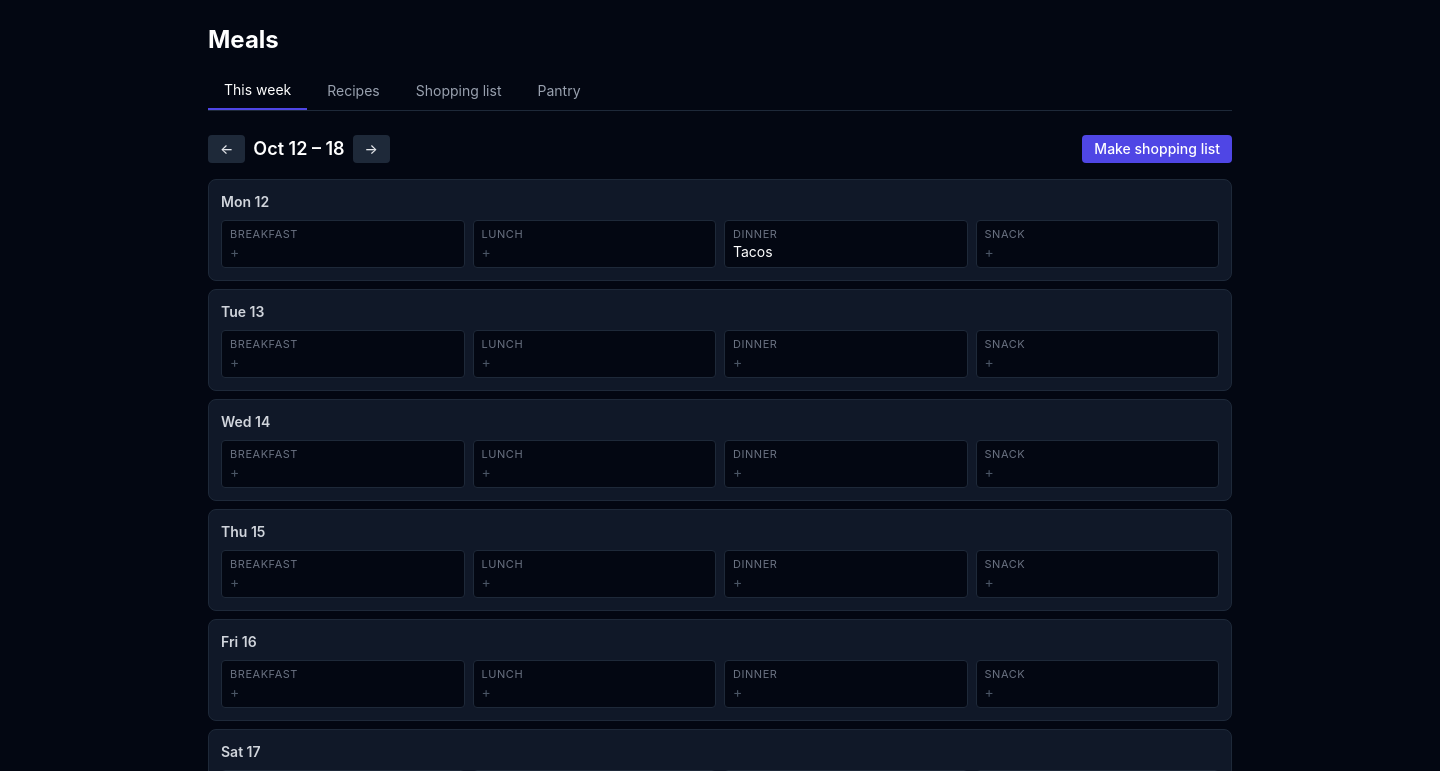
Test: MealsPage › This week › moves between weeks and makes the shopping list
Click the button "Make shopping list": (1157, 149) [1082,135,1232,163]
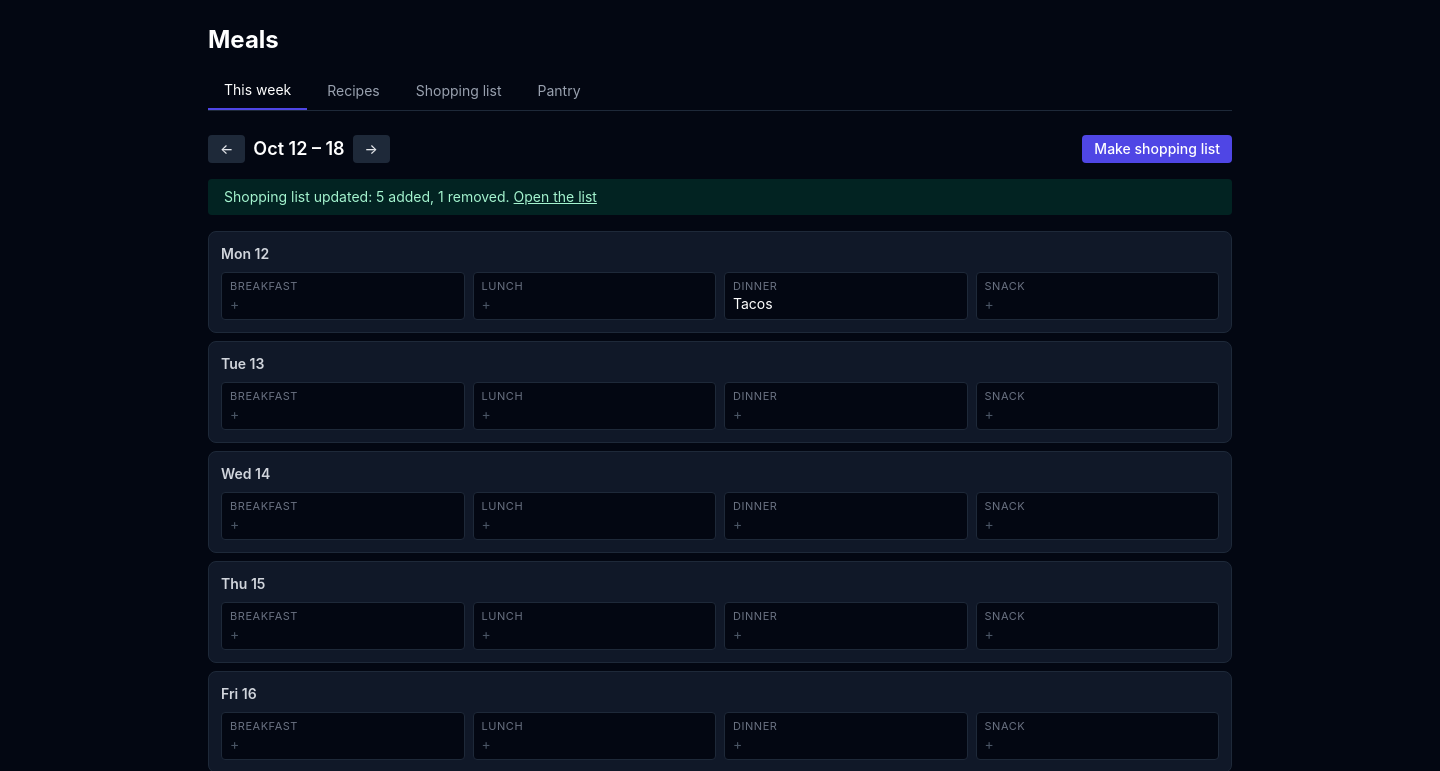
Expected: the text "Shopping list updated: 5 added, 1 removed. Open the list" is shown, [208,179,1232,215]
Click the button named "Next week": (371, 149) [353,135,390,163]
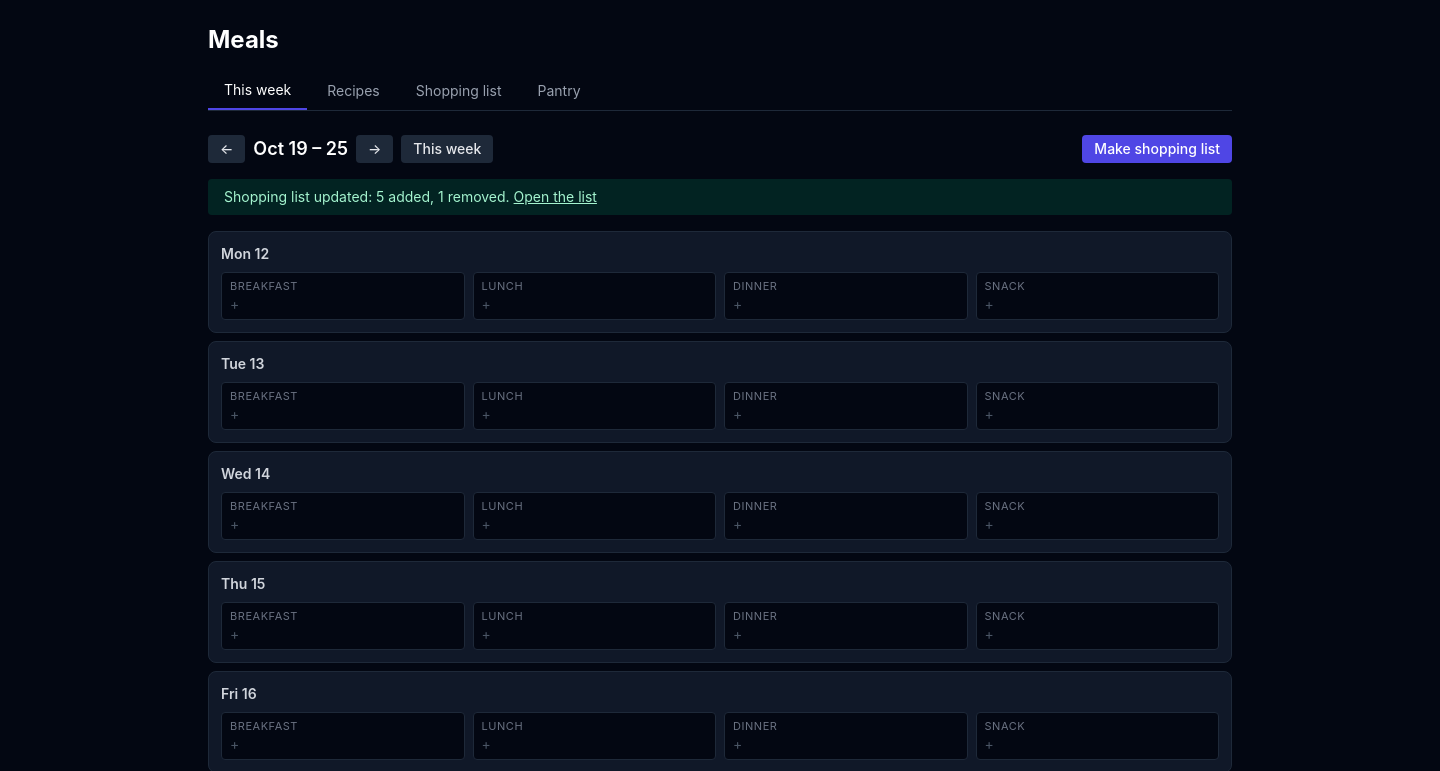
Expected: the heading "Oct 19 – 25" is shown, [253,135,348,163]
Click the button "This week": (447, 149) [401,135,493,163]
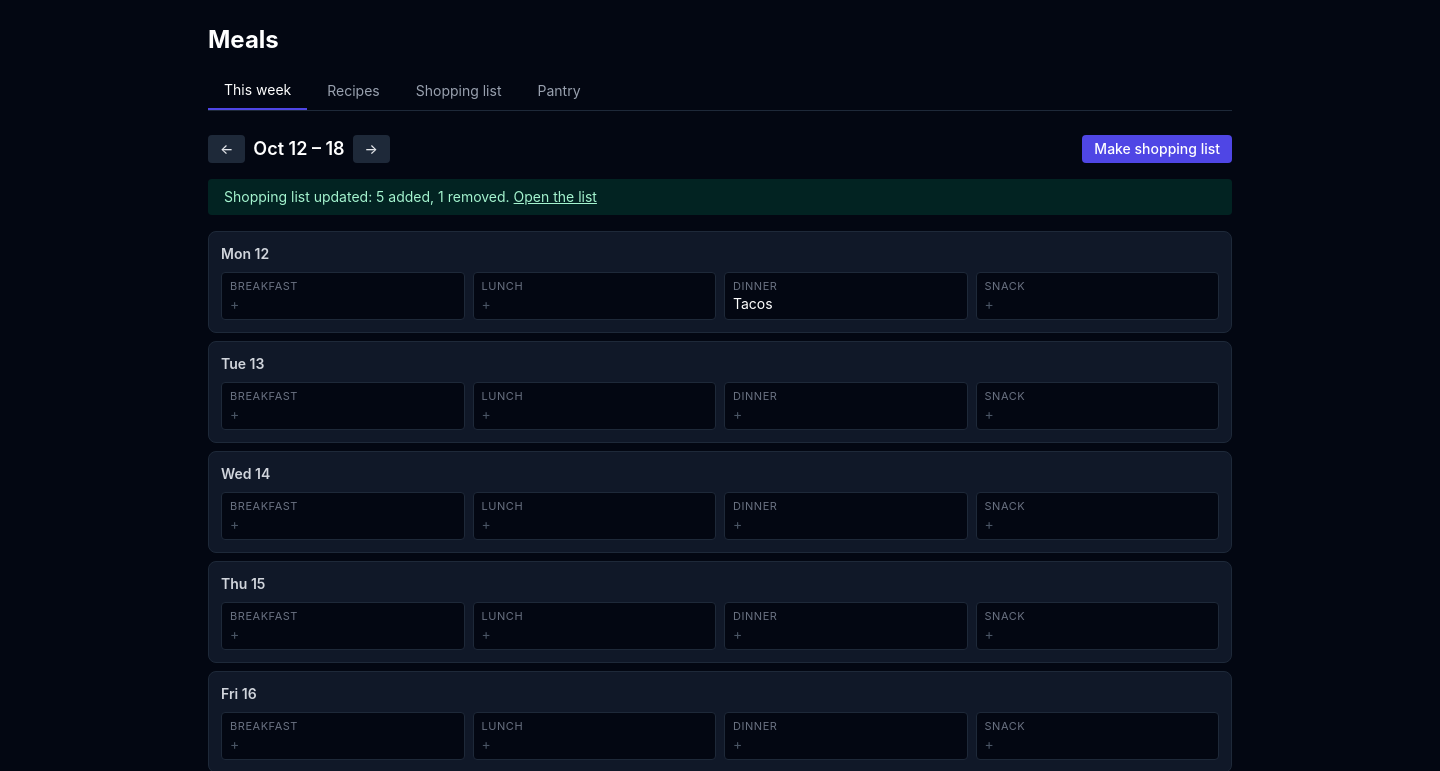
Expected: the heading "Oct 12 – 18" is shown, [253,135,345,163]
Click the button "Open the list": (555, 197) [514,187,597,207]
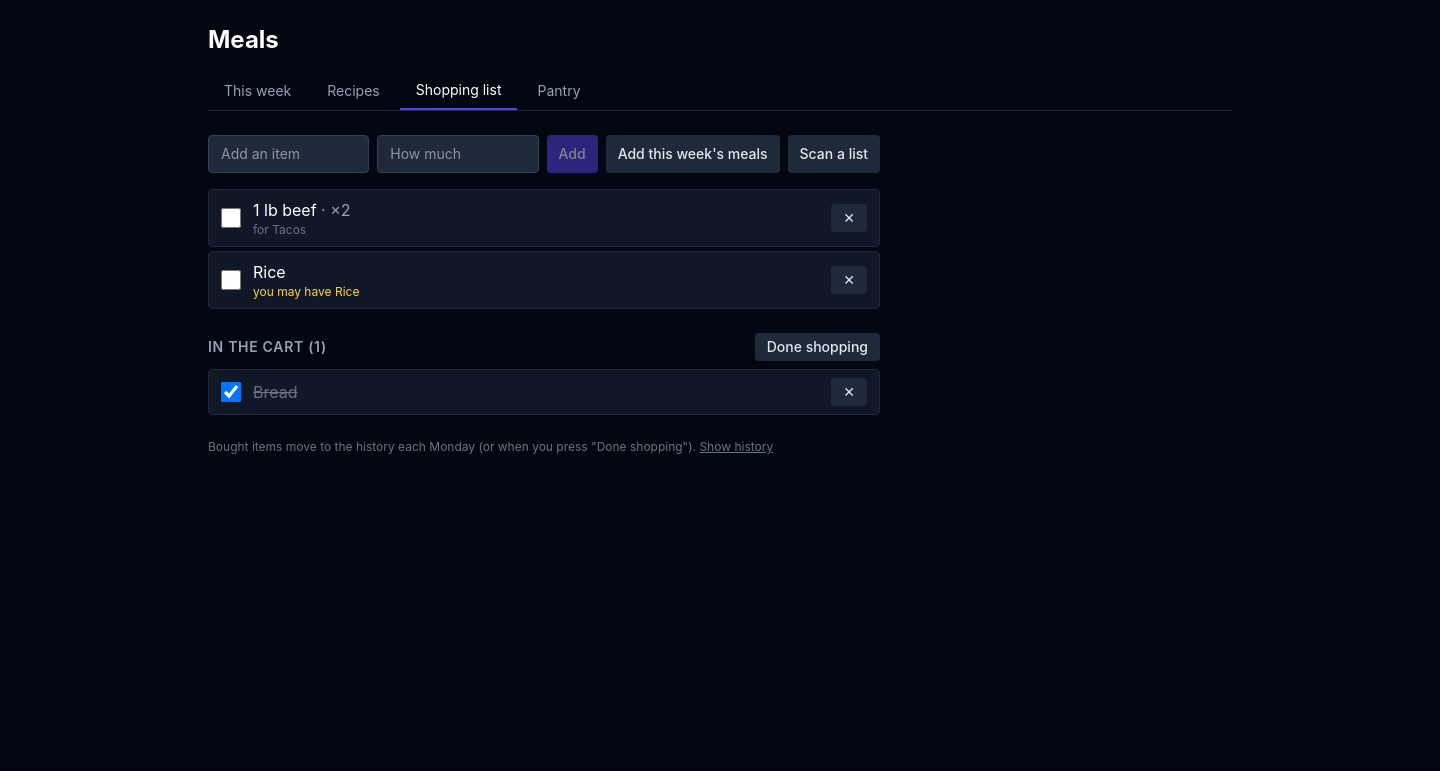
Expected: the field named "New item" is shown, [208,135,369,173]
